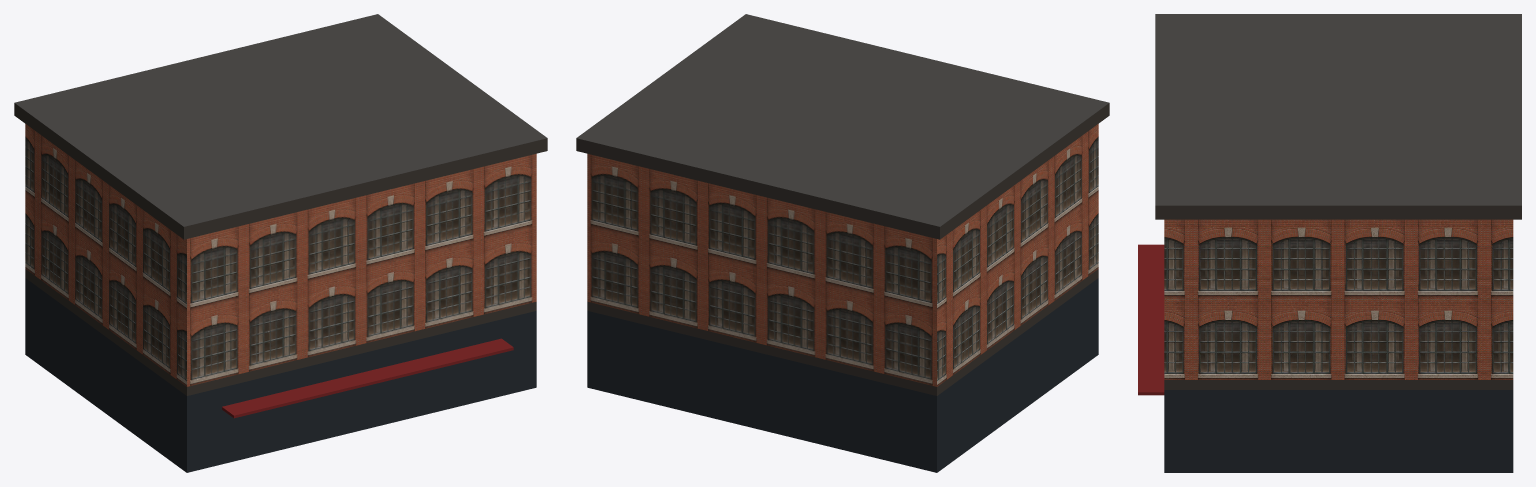
File: gen_low2_brick_shop.glb
3 renders of one model, left to right at view 1: azimuth 30°, elevation 25°; view 2: azimuth 150°, elevation 25°; view 3: azimuth 270°, elevation 25°, orthographic. The views are drawn at different scales.
Parts seen in each view (by area): view 1: gen_low2_brick_shop; view 2: gen_low2_brick_shop; view 3: gen_low2_brick_shop.
Part boxes in pixels (x1,y1,x2,y2): gen_low2_brick_shop: [14, 14, 547, 472]; gen_low2_brick_shop: [576, 14, 1109, 472]; gen_low2_brick_shop: [1138, 14, 1521, 472].
Size of the model in its own units: 20.8 by 13.7 by 17.6.
2 materials, 2 textured.
